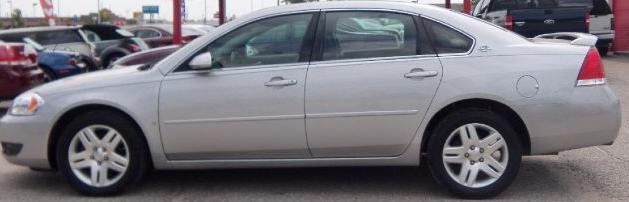backlight: (569, 42, 610, 89)
headlight: (9, 91, 45, 119)
side_glass: (169, 8, 479, 83)
